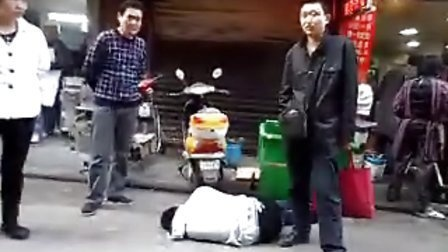falling: (153, 178, 296, 250)
